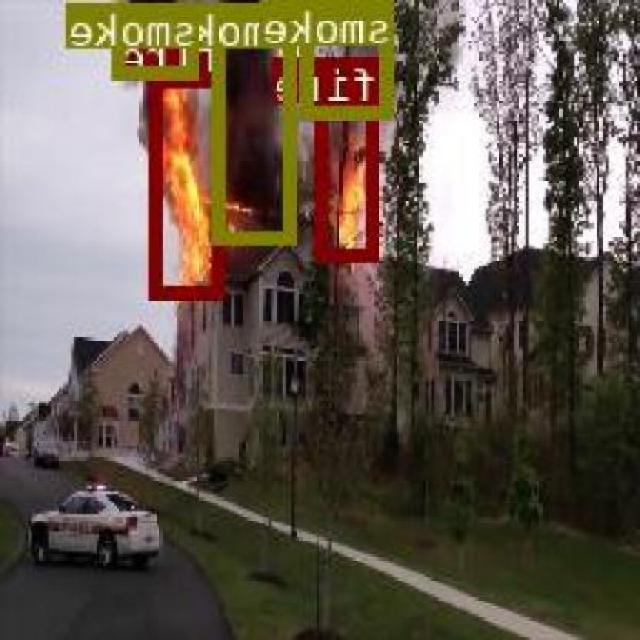Fire: (152, 74, 226, 297), (320, 101, 382, 257)
Smoke: (216, 0, 299, 242), (304, 0, 396, 117), (116, 0, 202, 77)
